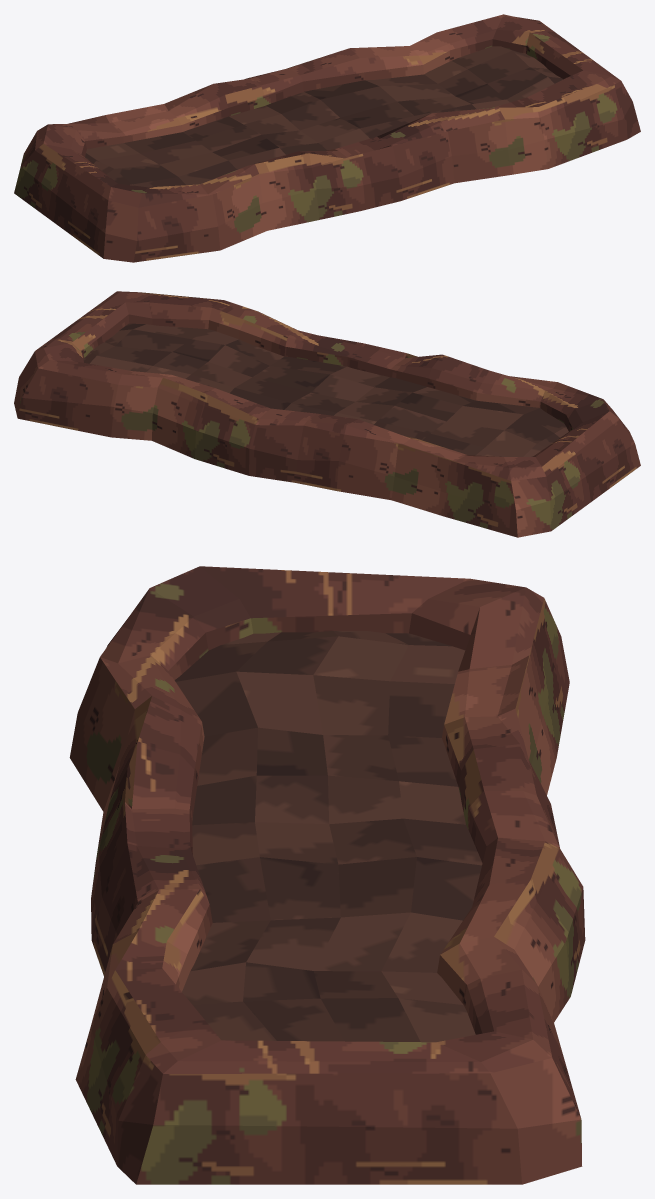
File: SM_AN40_CultivationBed.fbx
The picture shows the model from 3 angles, top to bottom: view 1: azimuth 30°, elevation 25°; view 2: azimuth 150°, elevation 25°; view 3: azimuth 270°, elevation 25°; orthographic projection. The views are drawn at different scales.
Visible parts, largest first — view 1: AN40a_Earth, AN40a_Props; view 2: AN40a_Earth, AN40a_Props; view 3: AN40a_Earth, AN40a_Props.
Boxes of the visible parts, bbox=[...] form: AN40a_Earth: bbox=[14, 14, 640, 262]; AN40a_Props: bbox=[85, 46, 562, 187]; AN40a_Earth: bbox=[14, 291, 640, 537]; AN40a_Props: bbox=[83, 323, 568, 456]; AN40a_Earth: bbox=[69, 566, 585, 1184]; AN40a_Props: bbox=[174, 631, 482, 1042].
Bounding box in the file's own units: 4.12 × 0.4356 × 1.72.
